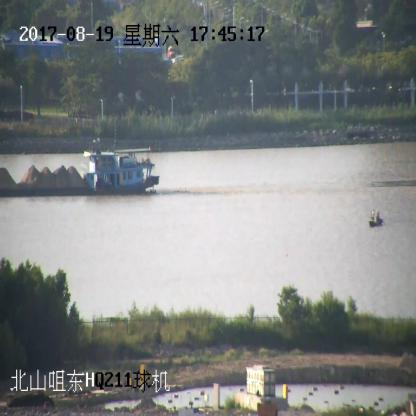Fishing Boat: (370, 210, 384, 227)
